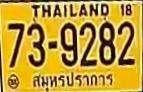2: (79, 22, 96, 66), (117, 20, 134, 64)
3: (27, 23, 44, 66)
7: (7, 22, 24, 67)
8: (99, 22, 114, 64)
9: (60, 22, 77, 65)
SPK: (29, 69, 114, 92)
